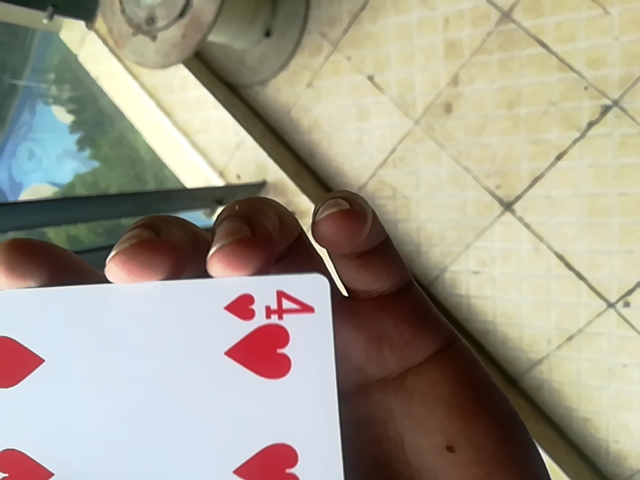hx 4: (1, 266, 347, 480)
